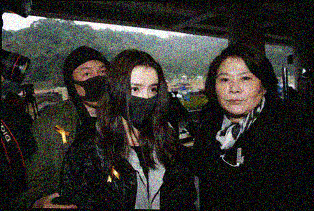with_mask: (120, 81, 162, 129), (72, 63, 111, 110)
without_mask: (213, 70, 265, 117)
